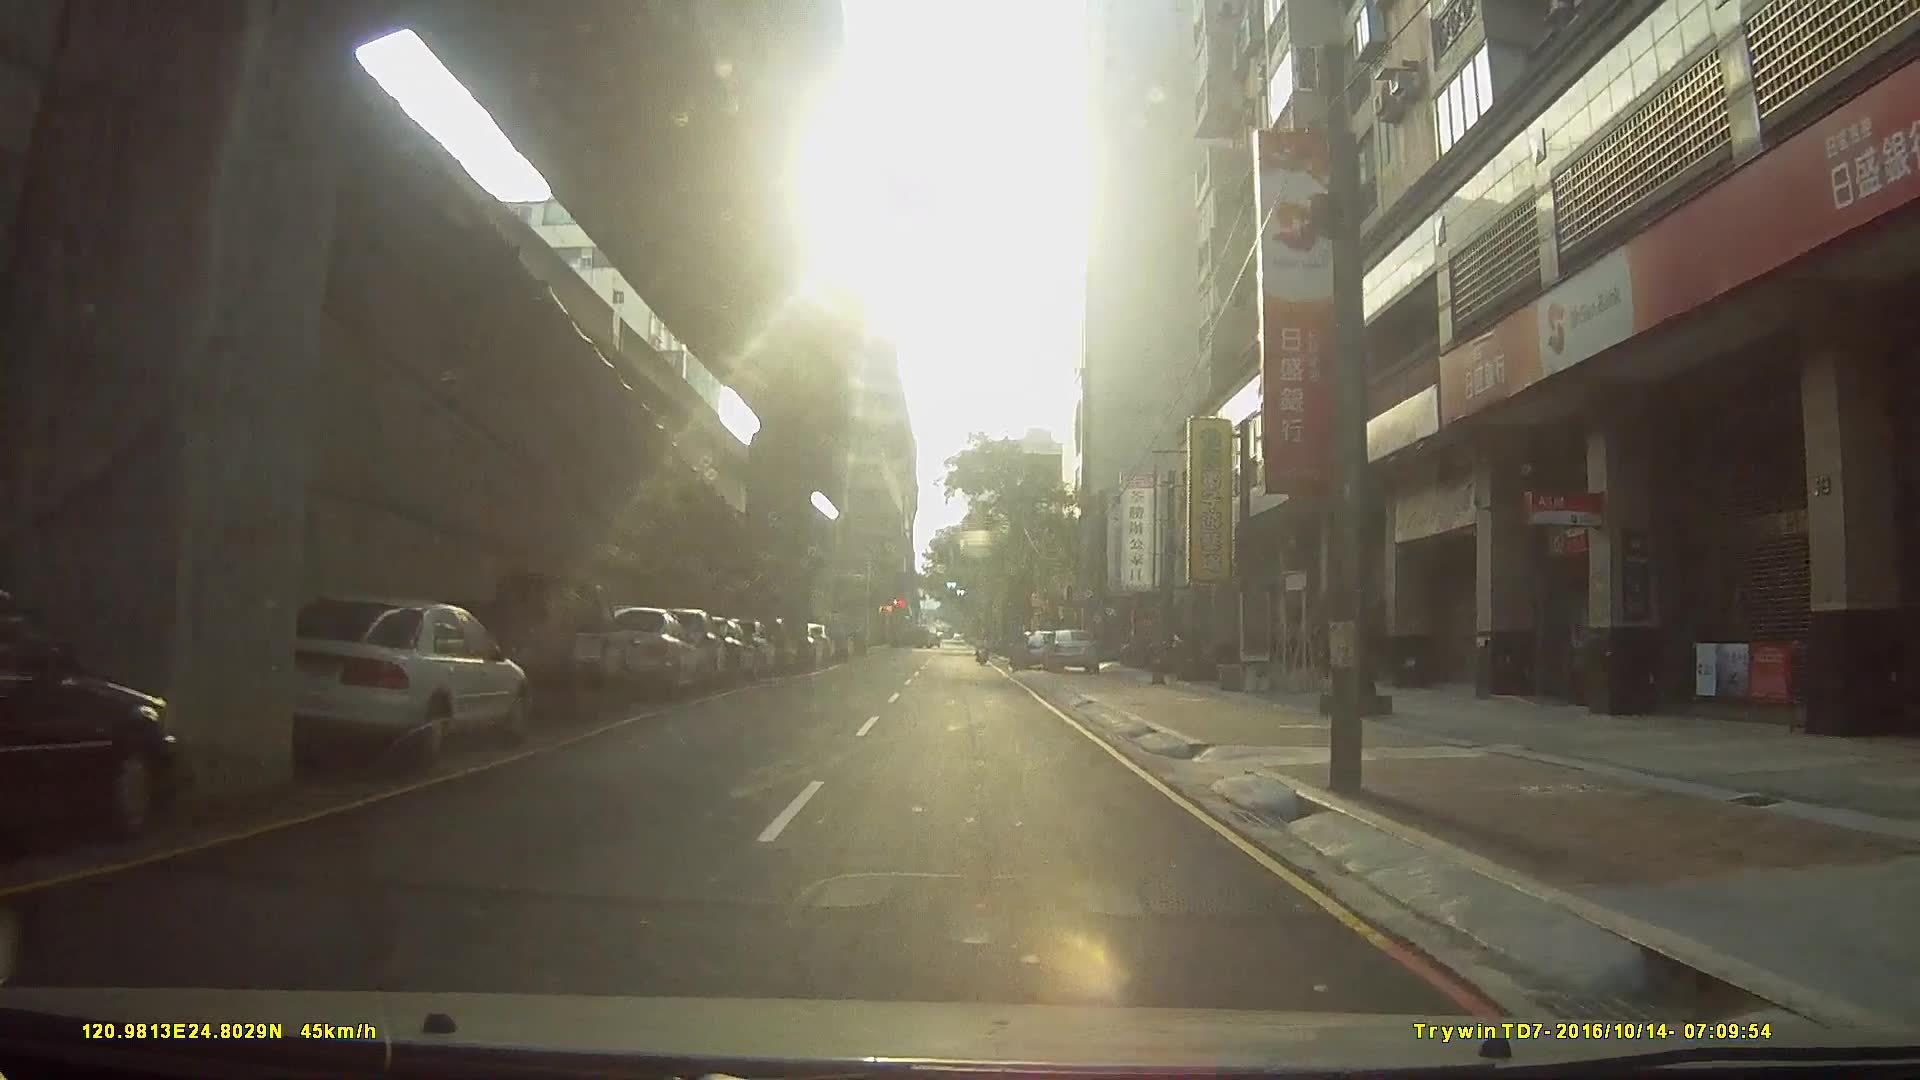vehicle: (0, 582, 183, 844), (269, 593, 529, 767), (433, 574, 629, 709), (574, 605, 703, 704), (659, 620, 794, 670), (1038, 626, 1101, 675)
